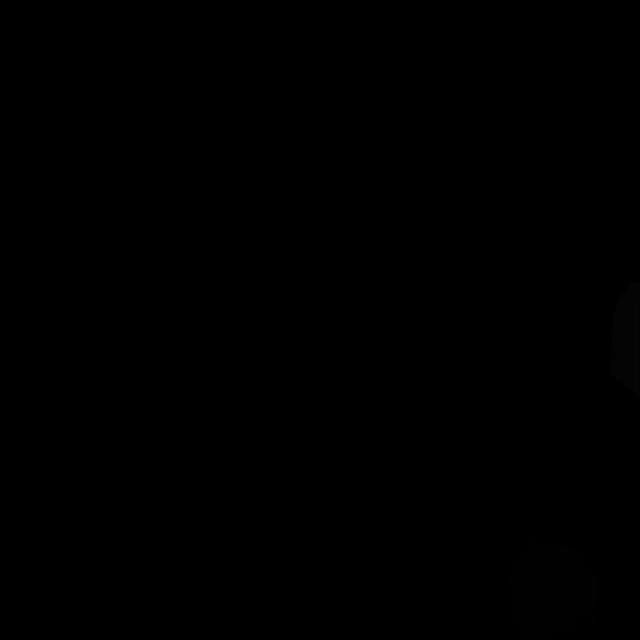rigid_plastic: (508, 532, 600, 640)
soft_plastic: (610, 283, 640, 397)
